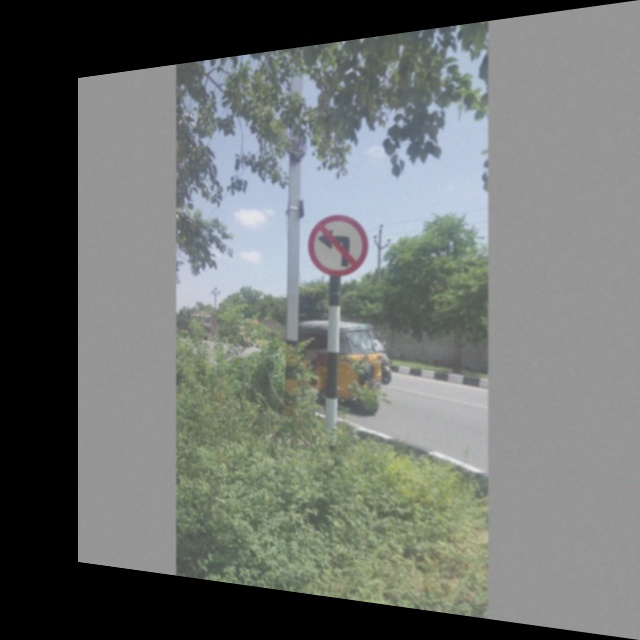Left_Turn_Prohibited: (306, 212, 372, 279)
